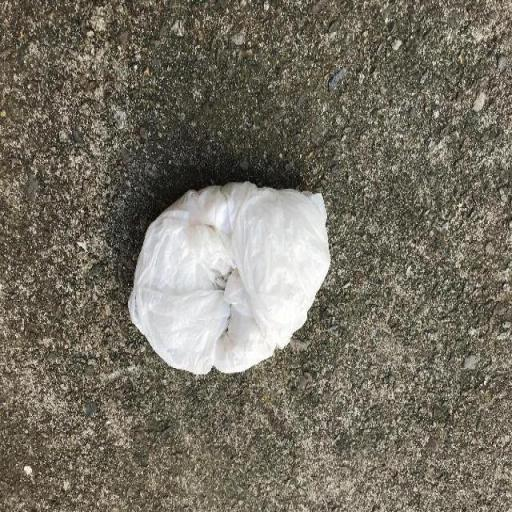plastic-bag: (124, 178, 328, 376)
